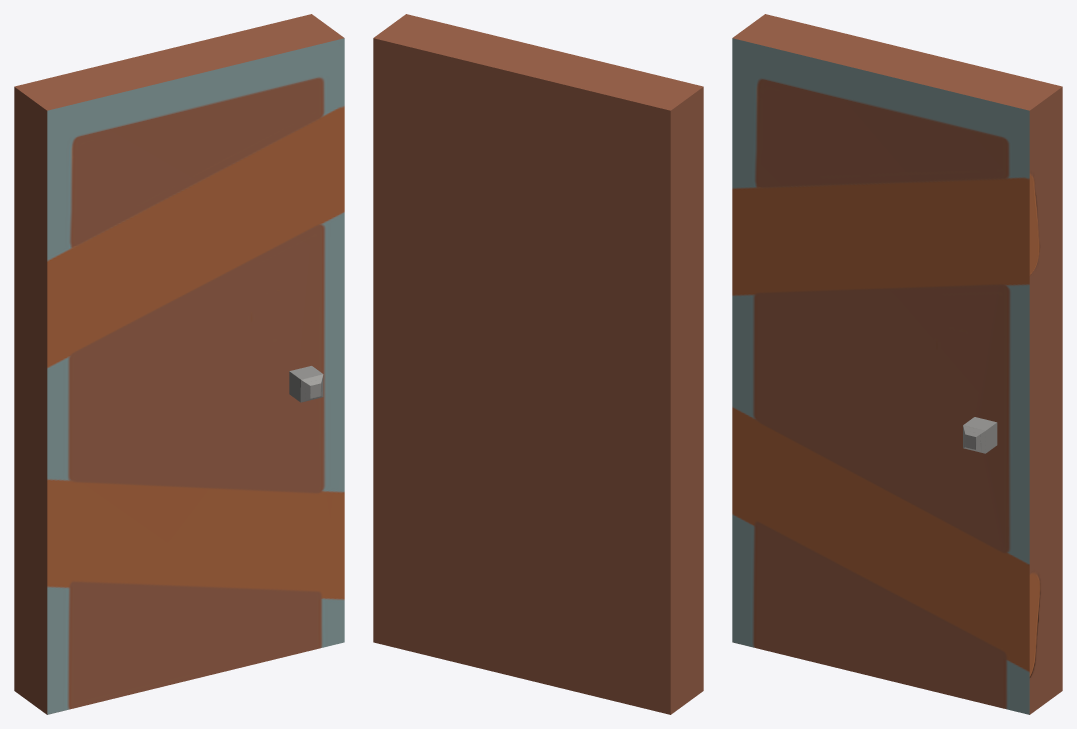
The model's file is PuertaEscapar.fbx.
3 renders of one model, left to right at view 1: azimuth 30°, elevation 25°; view 2: azimuth 150°, elevation 25°; view 3: azimuth 330°, elevation 25°, orthographic.
Parts seen in each view (by area): view 1: PuertaEscape(Mapeada)(texturizada; view 2: PuertaEscape(Mapeada)(texturizada; view 3: PuertaEscape(Mapeada)(texturizada.
Boxes of the visible parts, x1,y1,x2,y2 form: PuertaEscape(Mapeada)(texturizada: (14,14,344,714); PuertaEscape(Mapeada)(texturizada: (373,14,703,714); PuertaEscape(Mapeada)(texturizada: (732,14,1062,714).
Size of the model in its own units: 458 by 888 by 128.
